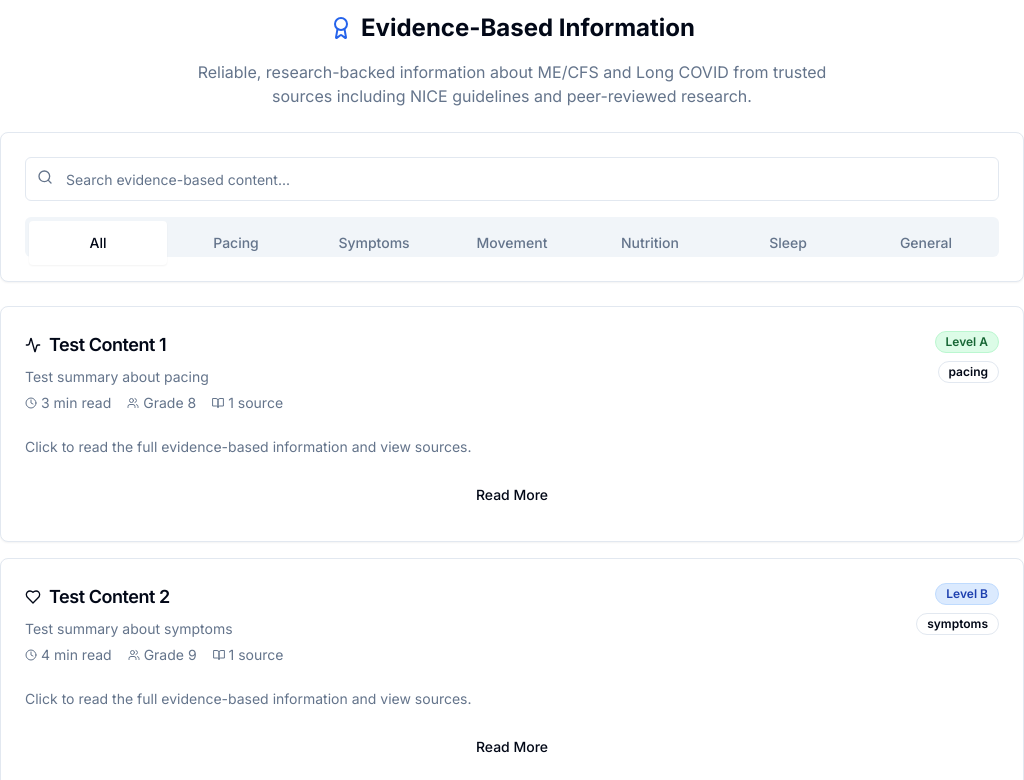
EvidenceBasedContent › shows no content message when no results
In the field with placeholder "Search evidence-based content...": (512, 179) [25, 157, 999, 201], type "nonexistent"
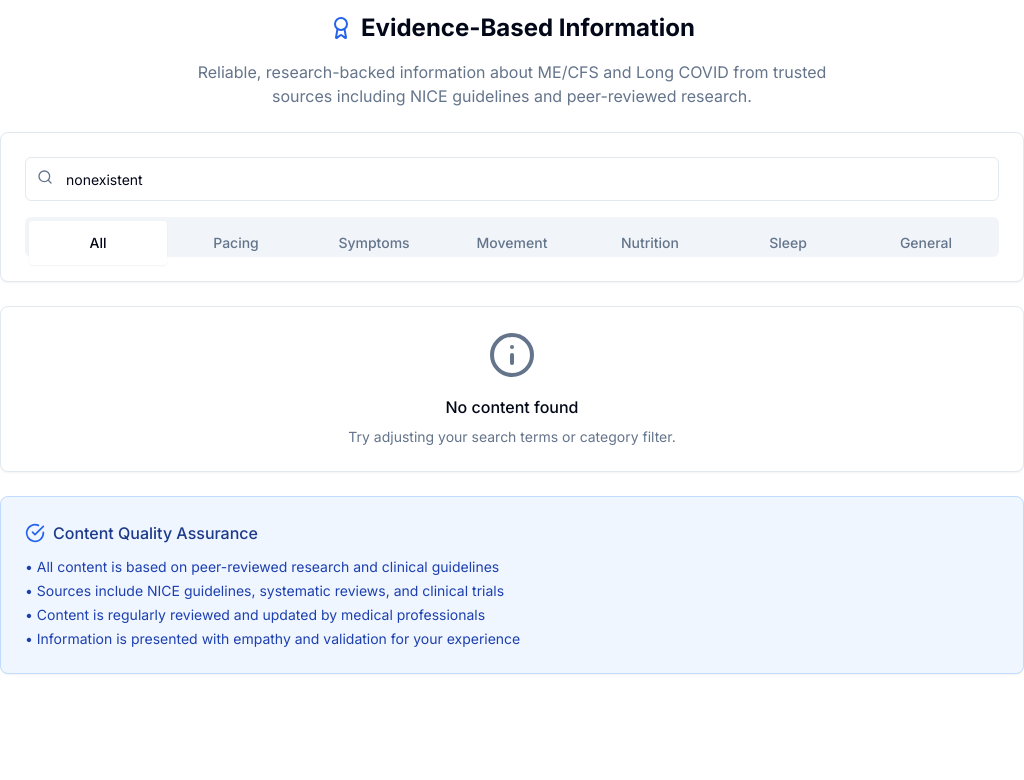
Result: the heading "No content found" is shown at [446, 397, 578, 417]
Result: the text "Try adjusting your search terms or category filter." is shown at [348, 428, 676, 445]
